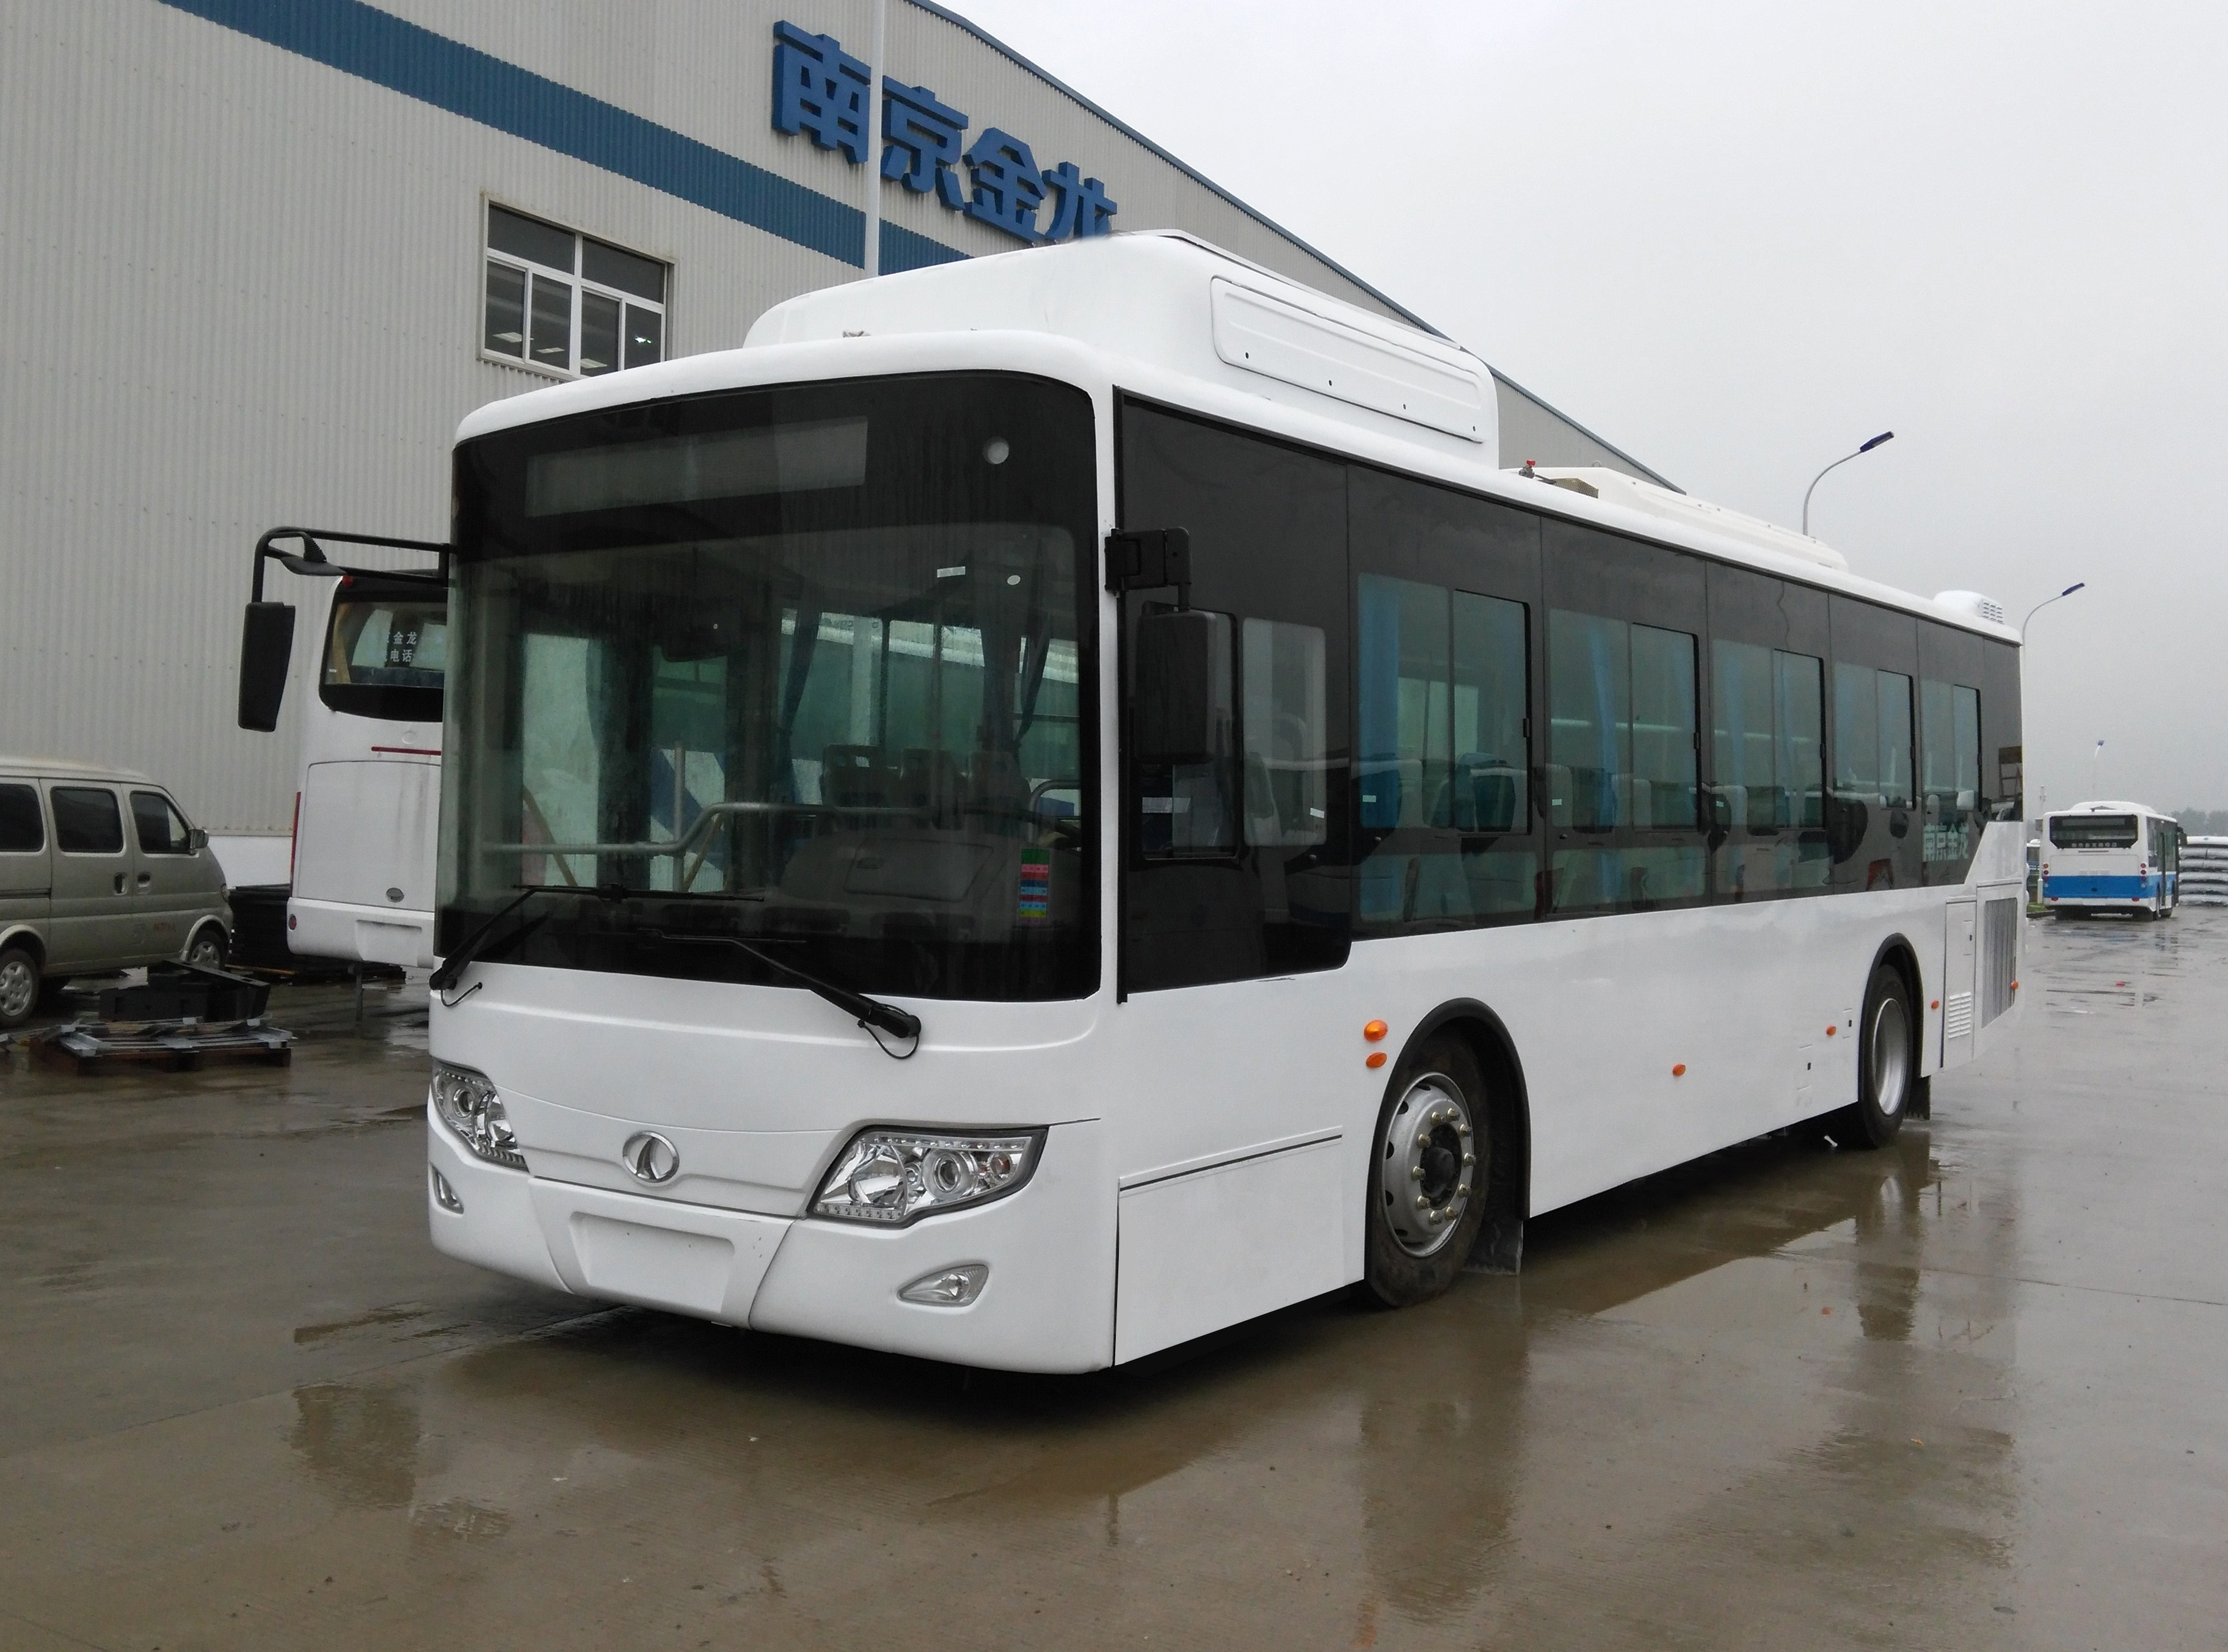bus: (248, 316, 2075, 1419)
